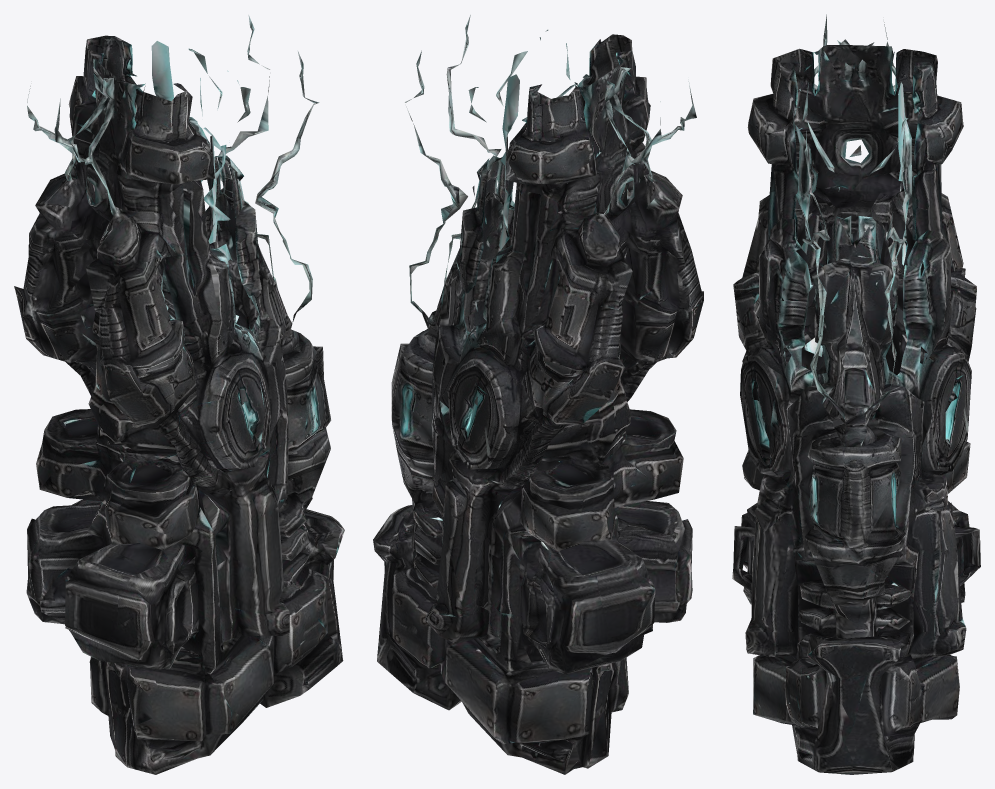
3 views of the same model, side by side, from view 1: azimuth 30°, elevation 25°; view 2: azimuth 150°, elevation 25°; view 3: azimuth 270°, elevation 25° (orthographic).
Visible parts, largest first — view 1: LIMEN forearm emitter; view 2: LIMEN forearm emitter; view 3: LIMEN forearm emitter.
Boxes of the visible parts, left/top/right/bottom form: LIMEN forearm emitter: left=14, top=15, right=344, bottom=774; LIMEN forearm emitter: left=373, top=15, right=703, bottom=774; LIMEN forearm emitter: left=732, top=14, right=980, bottom=774.
Bounding box in the file's own units: 0.1653 × 0.3783 × 0.1233.
1 material, 1 textured.
